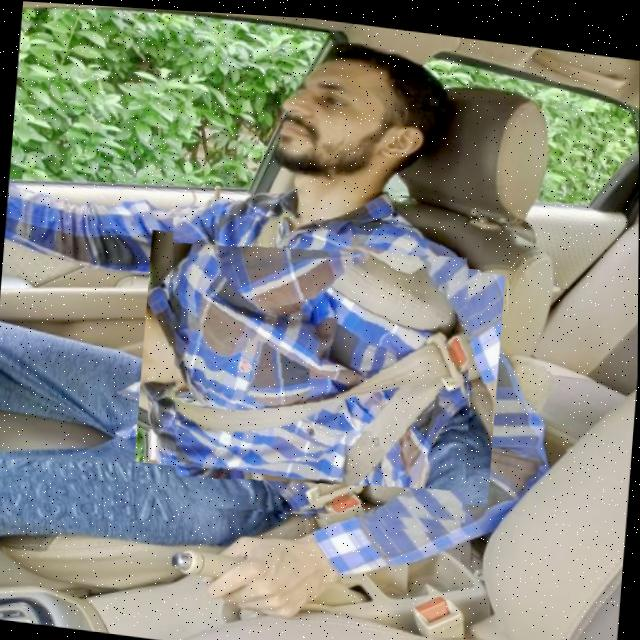seatbelt: (156, 192, 482, 531)
